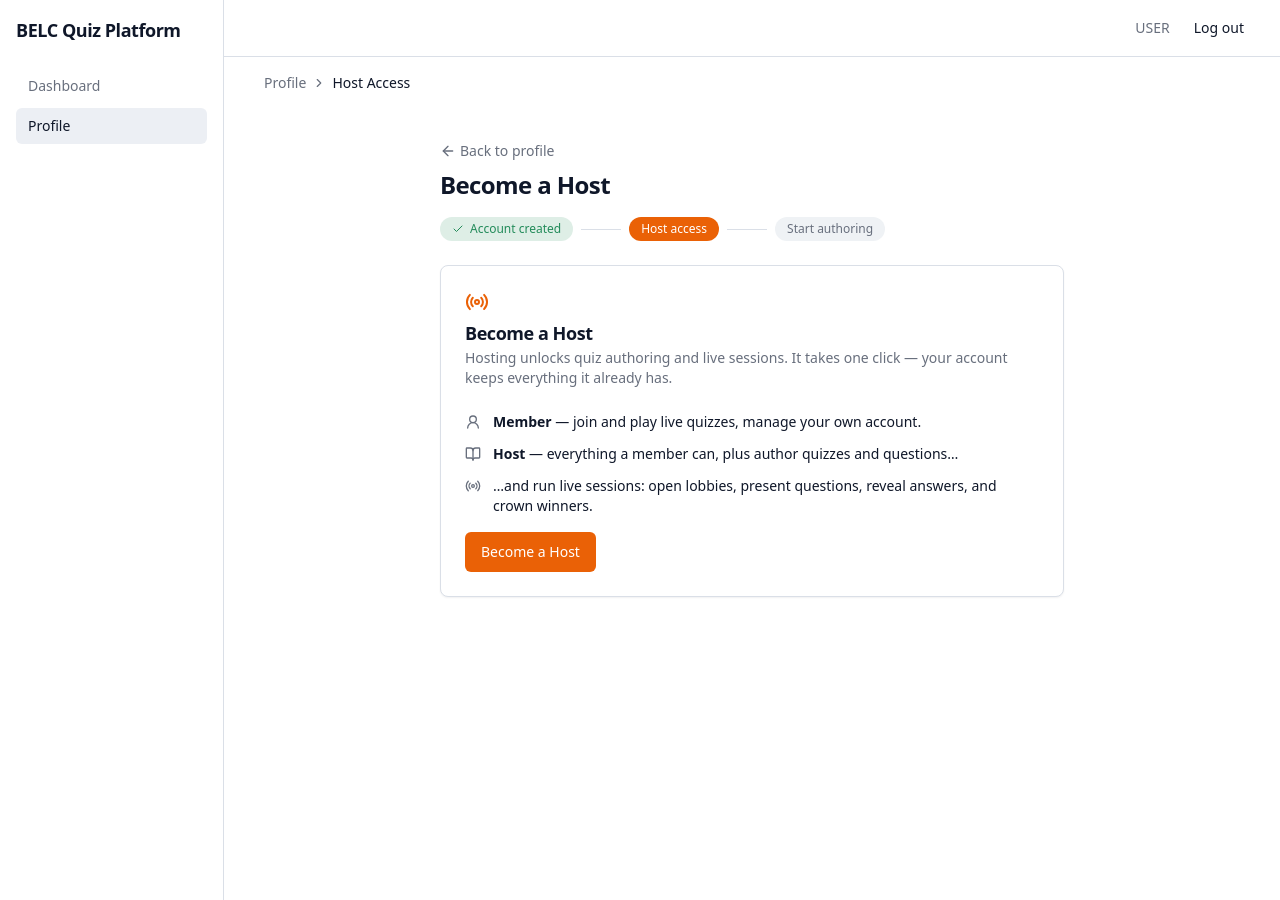
Test: host onboarding › surfaces a denied promotion and stays on the page
Click the button "Become a Host" at (530, 552), box [465,532,596,572]
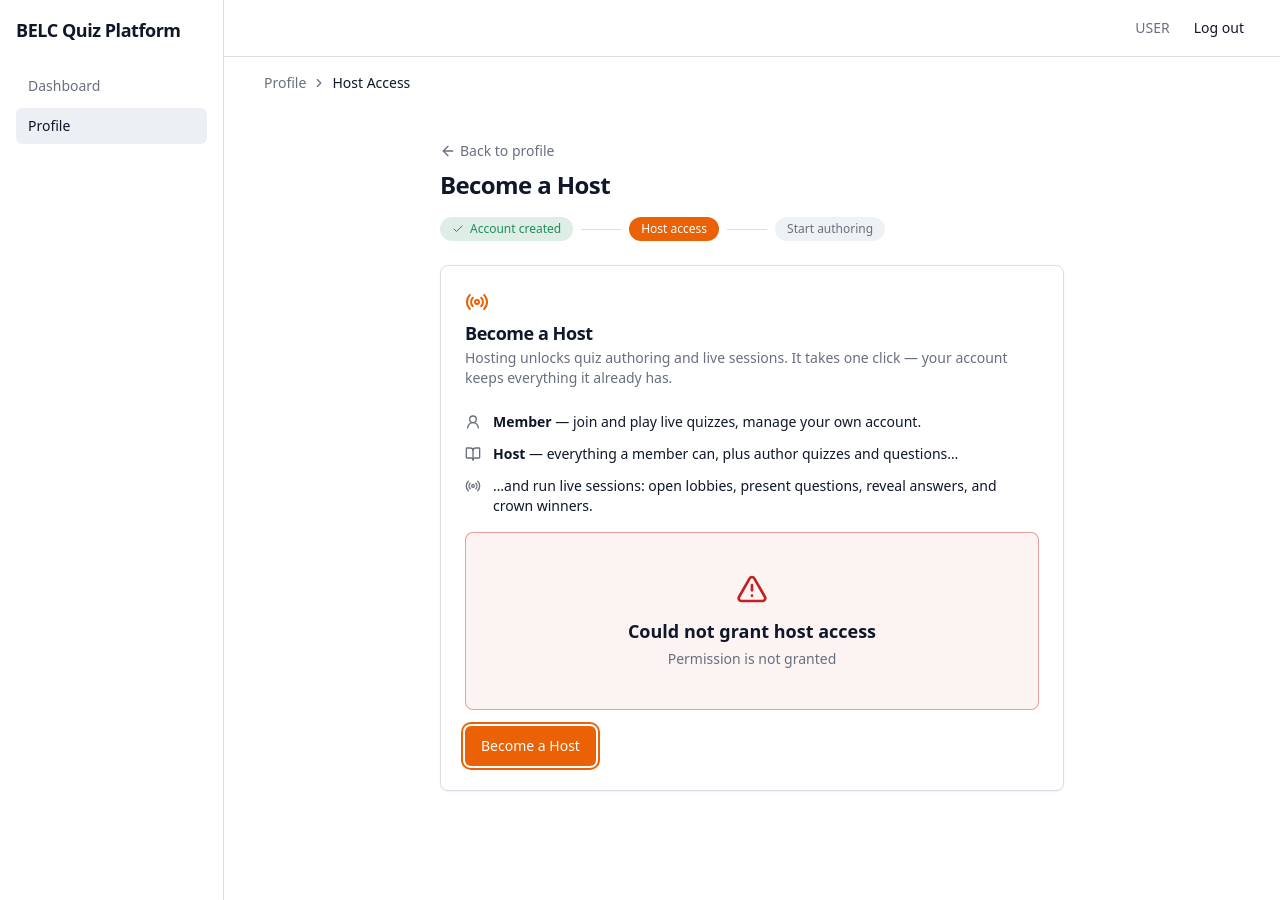
Check: the heading "Could not grant host access" is shown, box [628,617,876,645]
